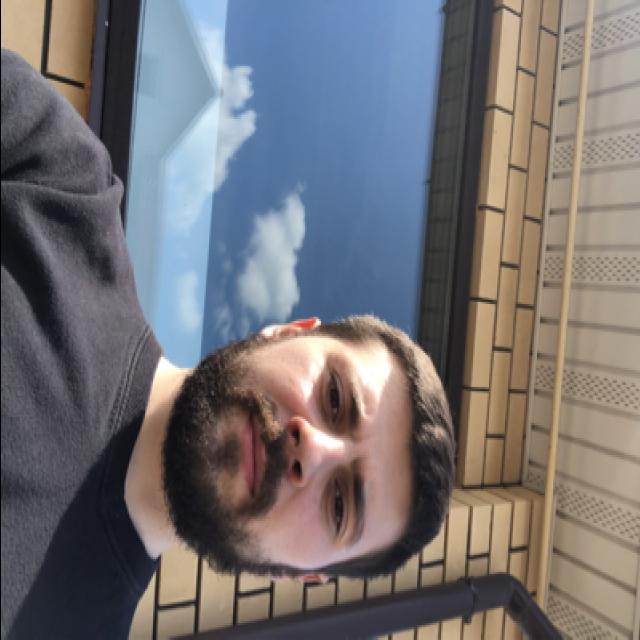no_mask: (163, 344, 379, 570)
